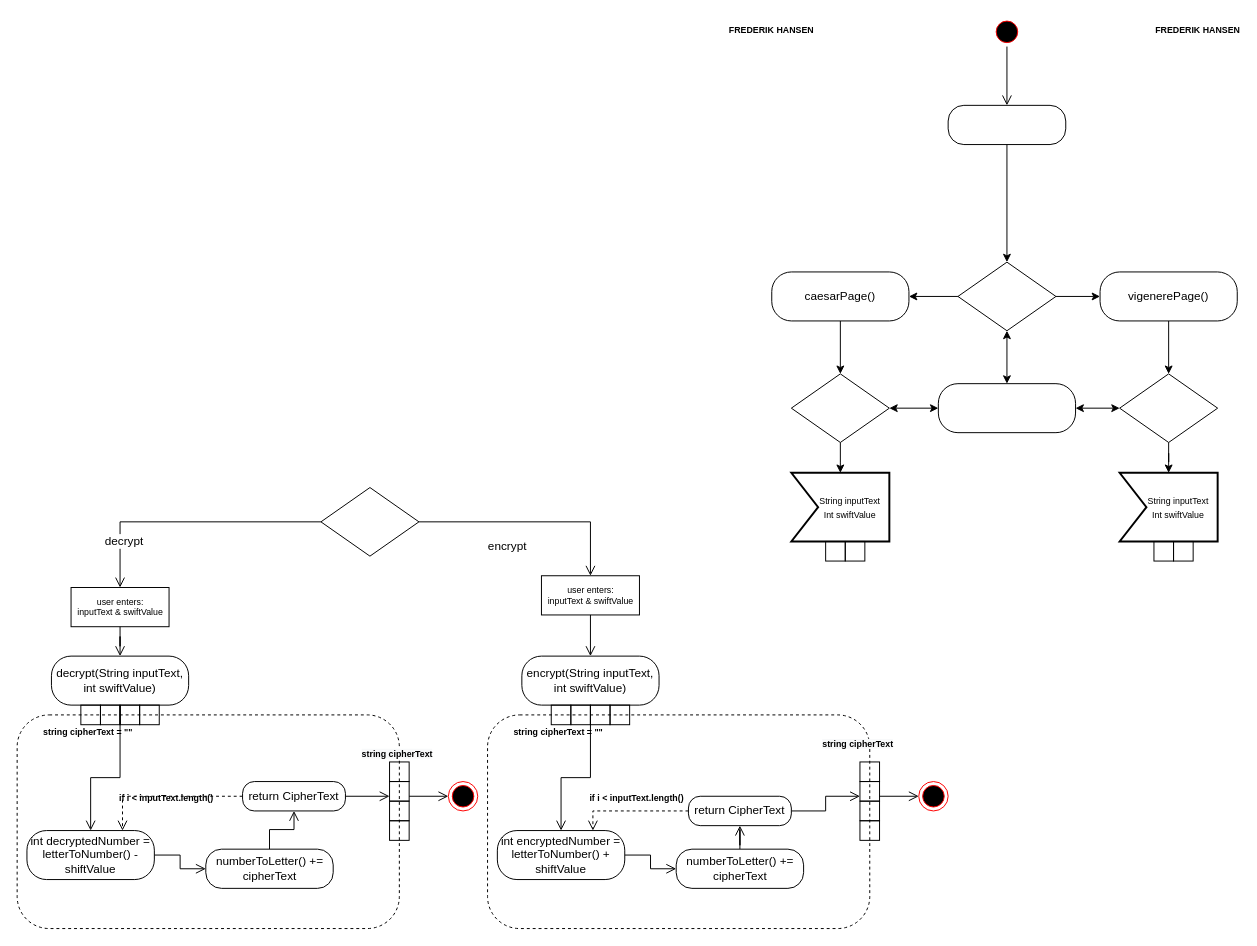
This 1257x946 diagram has some shape labels left out. Here are the shapes that lost their labels. From the top down, the centre of each, then its label:
point (1006, 124): homePage()
point (1006, 408): checkInput()
